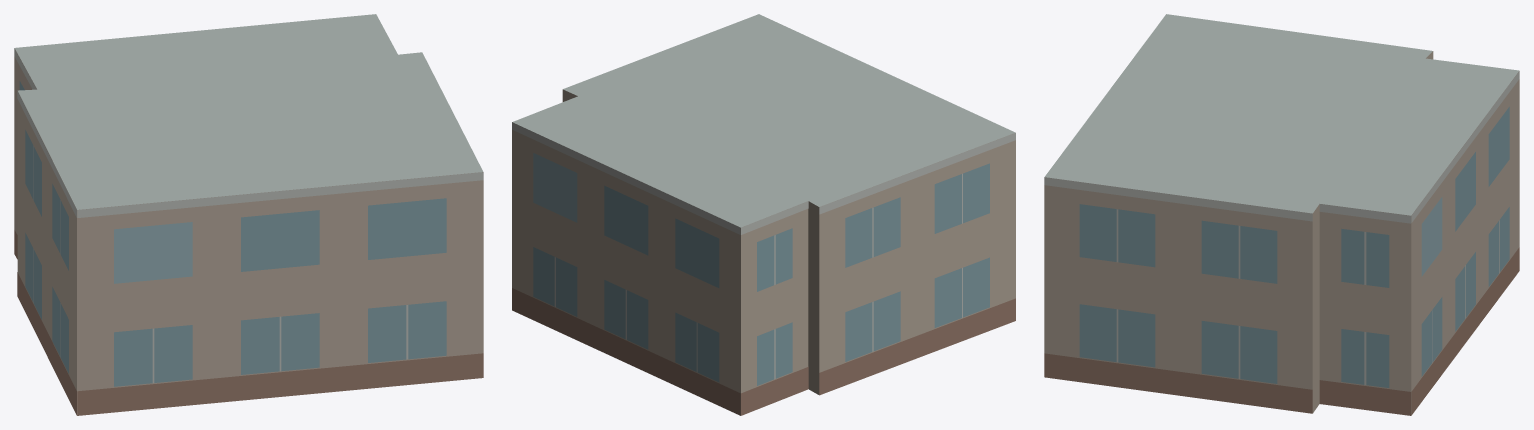
File: survey-upis-32856505.glb
3 views of the same model, side by side, from view 1: azimuth 30°, elevation 25°; view 2: azimuth 150°, elevation 25°; view 3: azimuth 270°, elevation 25° (orthographic). The views are drawn at different scales.
Parts seen in each view (by area): view 1: survey-upis-32856505.tmp; view 2: survey-upis-32856505.tmp; view 3: survey-upis-32856505.tmp.
Boxes of the visible parts, x1,y1,x2,y2 form: survey-upis-32856505.tmp: (14,14,483,415); survey-upis-32856505.tmp: (512,14,1015,415); survey-upis-32856505.tmp: (1044,14,1519,415).
Size of the model in its own units: 13.19 by 6.1 by 13.13.
